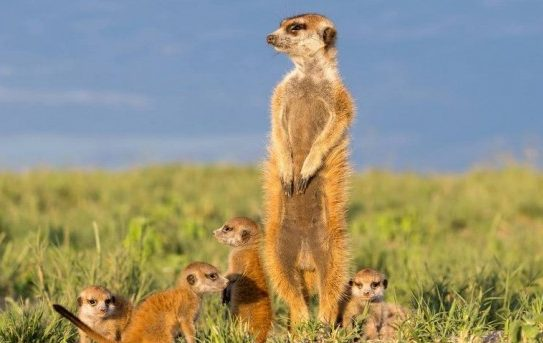meerkat: (254, 4, 357, 333), (113, 249, 229, 343), (205, 209, 272, 343), (60, 278, 132, 343)
